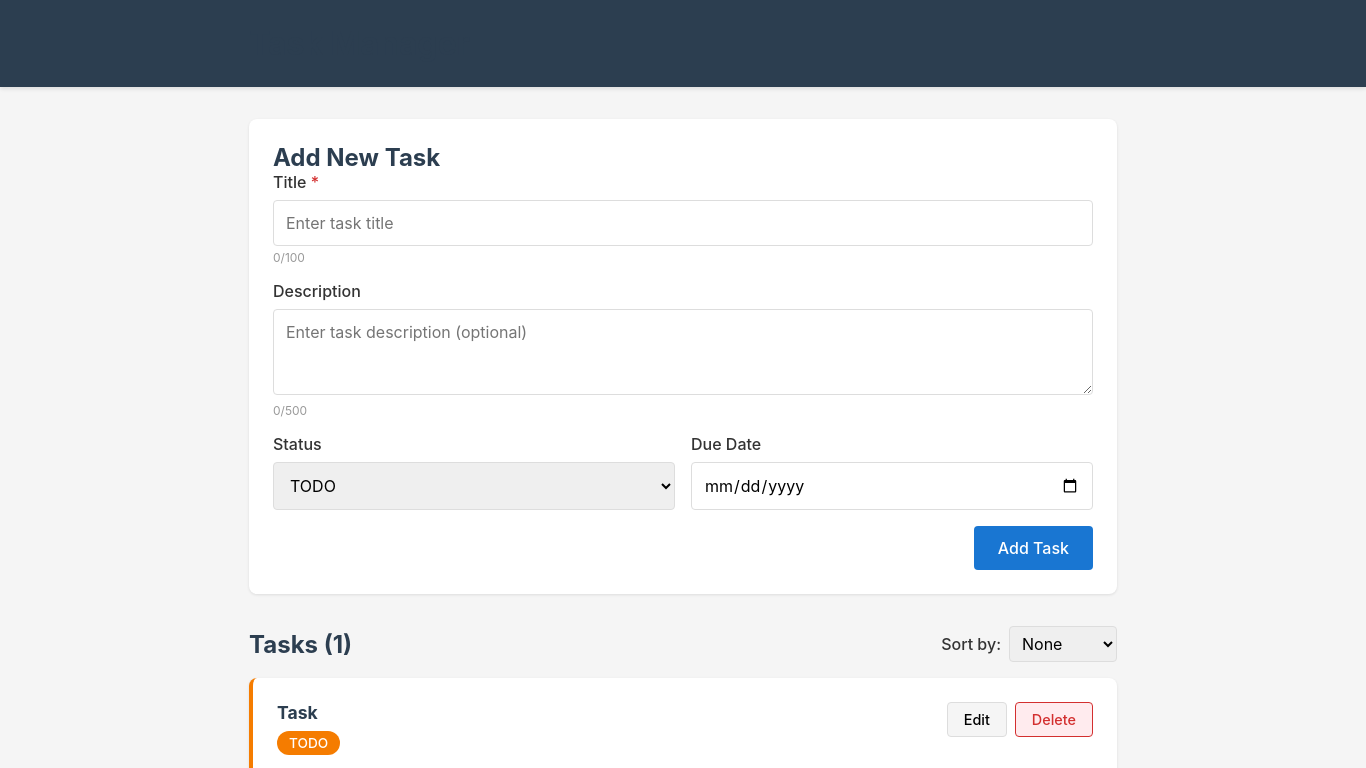
Test case: App Component › Edit Task › should display error message if update fails
The width and height of the screenshot is (1366, 768).
Click the button "Edit" at (977, 720), box [947,702,1007,737]
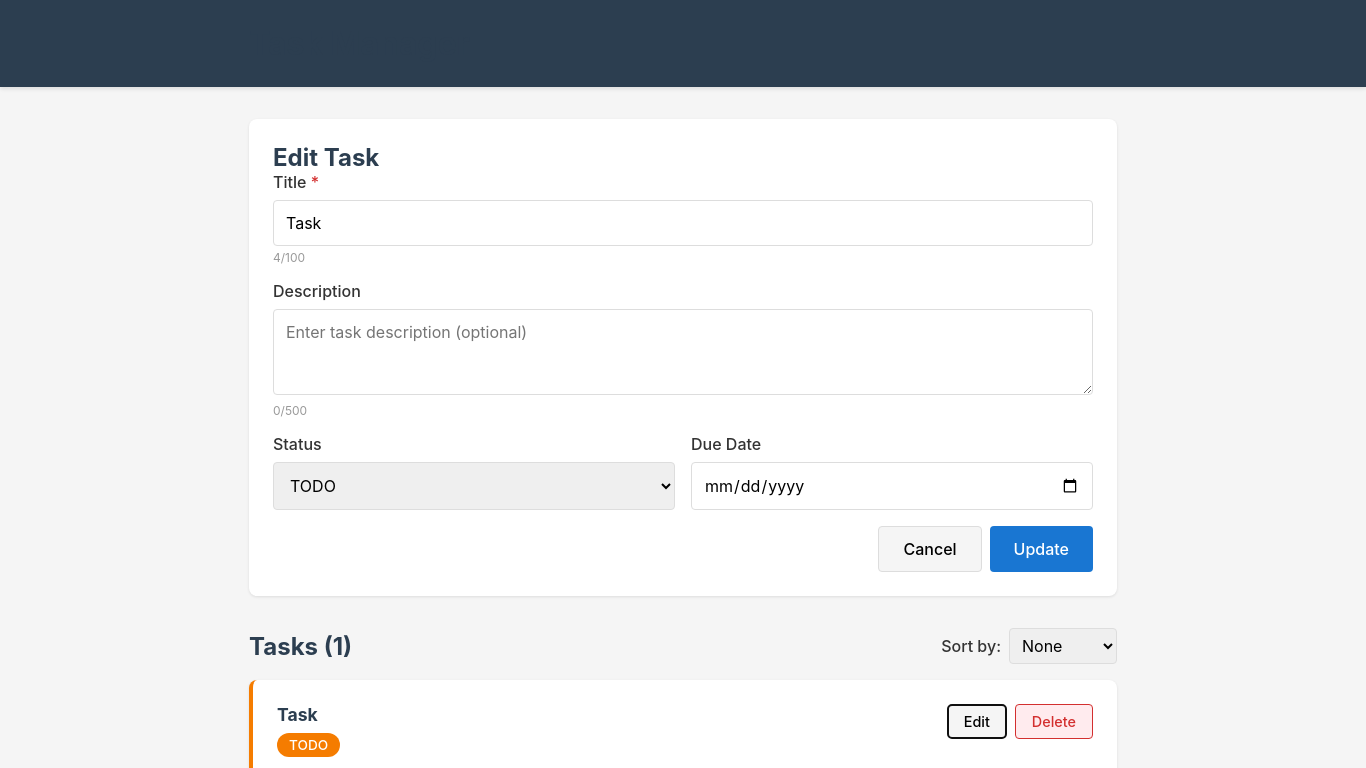
Click the button "Update" at (1041, 549), box [990,526,1093,572]
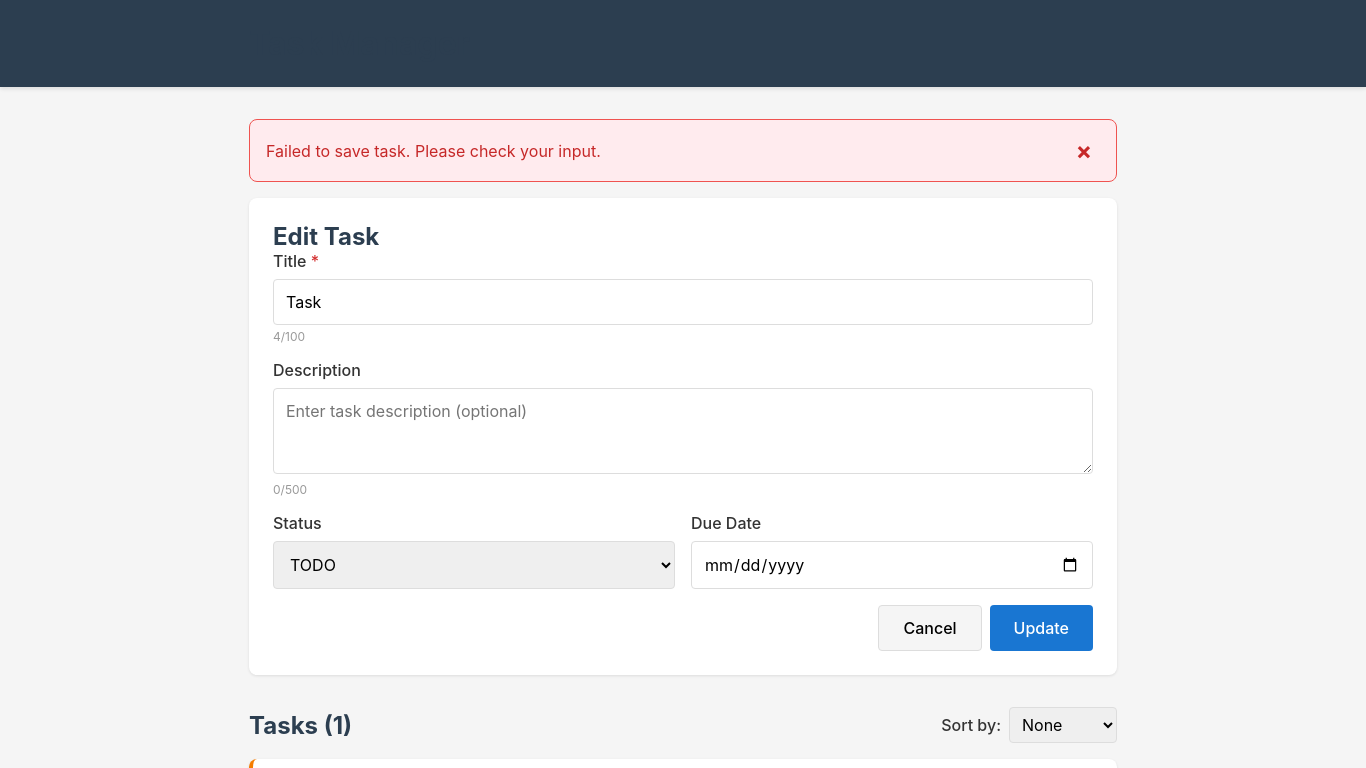
Now the text "Failed to save task. Please check your input." is shown, box [266,140,601,160]
